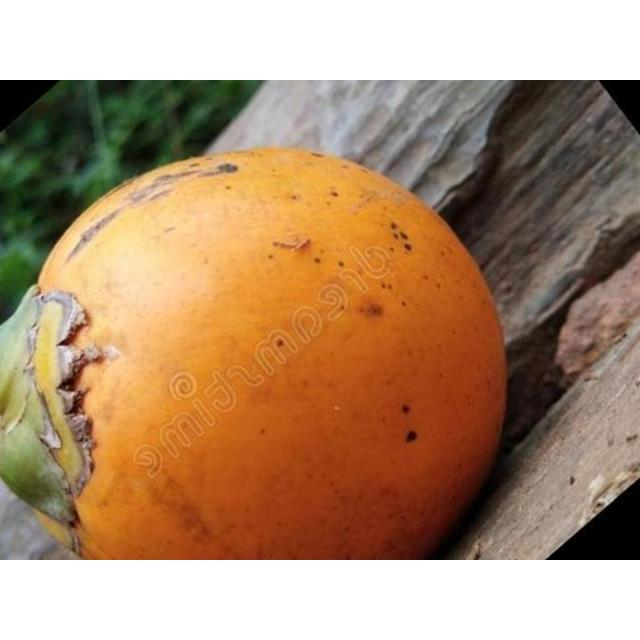good: (0, 148, 509, 559)
